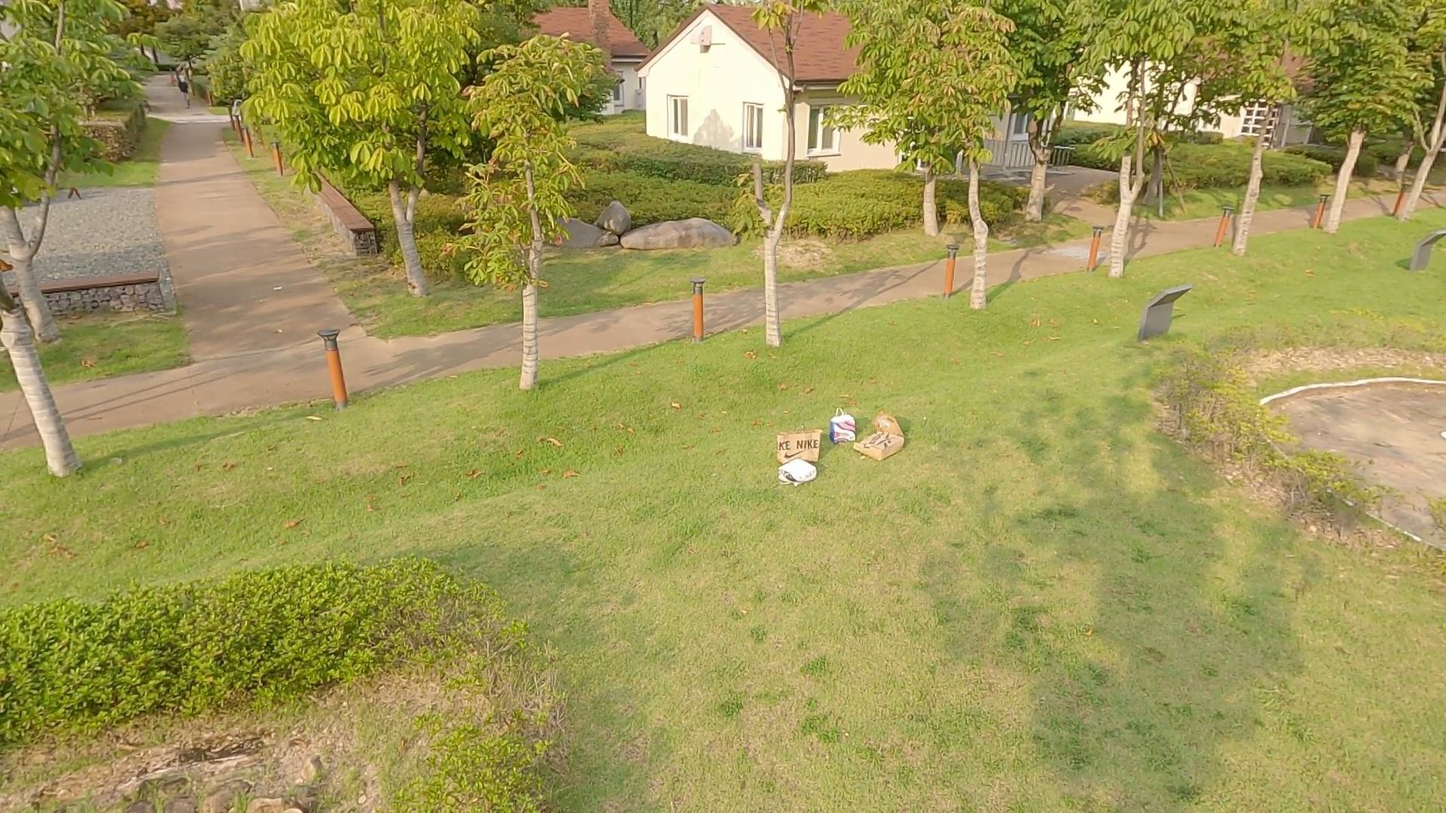trash: (776, 424, 823, 467), (851, 429, 905, 460), (776, 457, 819, 487), (872, 409, 905, 446), (829, 407, 857, 445)
